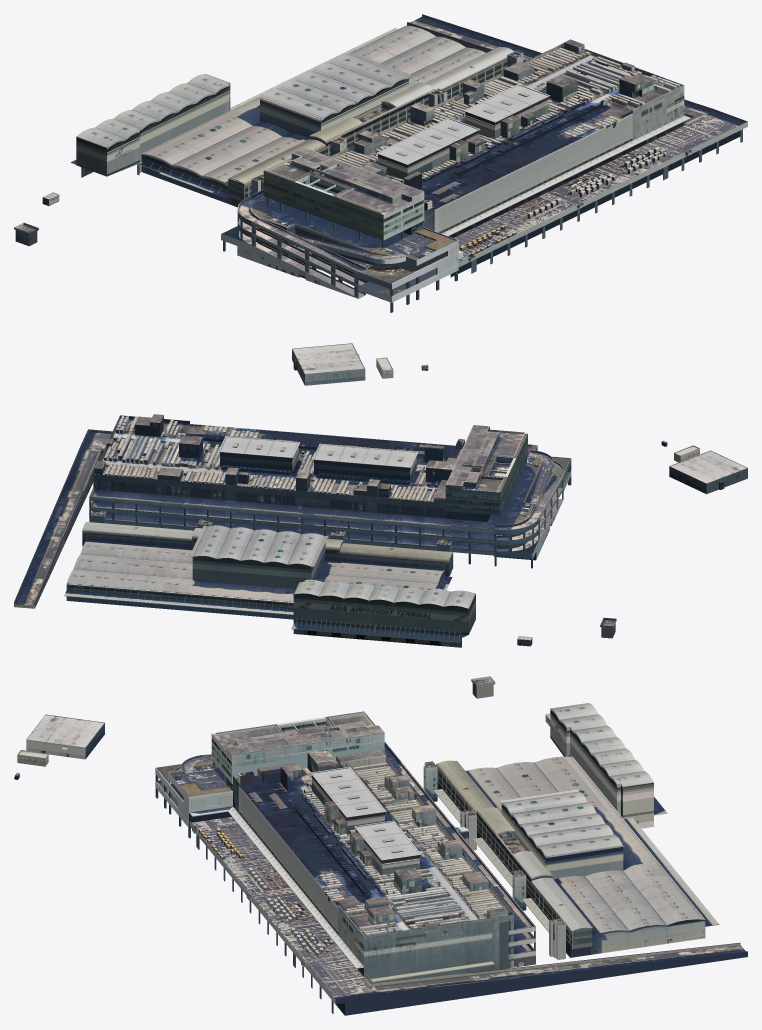
The model's file is surrounding_buildings_02.glb.
3 renders of one model, top to bottom at view 1: azimuth 30°, elevation 25°; view 2: azimuth 150°, elevation 25°; view 3: azimuth 270°, elevation 25°, orthographic. The views are drawn at different scales.
Visible parts, largest first — view 1: B100221752202063A0.001, B099881765001063A0.001, B099331749401062A0.001, B098421736001062A0.001; view 2: B100221752202063A0.001, B099881765001063A0.001, B099331749401062A0.001, B098421736001062A0.001; view 3: B100221752202063A0.001, B099881765001063A0.001, B099331749401062A0.001, B098421736001062A0.001.
Part boxes in pixels (x1,y1,x2,y2): B100221752202063A0.001: (221, 14, 747, 312); B099881765001063A0.001: (70, 25, 523, 207); B099331749401062A0.001: (263, 147, 424, 248); B098421736001062A0.001: (292, 343, 365, 385); B100221752202063A0.001: (14, 414, 571, 608); B099881765001063A0.001: (64, 511, 475, 647); B099331749401062A0.001: (445, 425, 527, 521); B098421736001062A0.001: (669, 450, 747, 494); B100221752202063A0.001: (155, 742, 747, 1015); B099881765001063A0.001: (423, 703, 719, 959); B099331749401062A0.001: (211, 711, 384, 790); B098421736001062A0.001: (26, 714, 104, 759).
Bounding box in the file's own units: 429 × 47.79 × 411.
23 materials, 23 textured.
